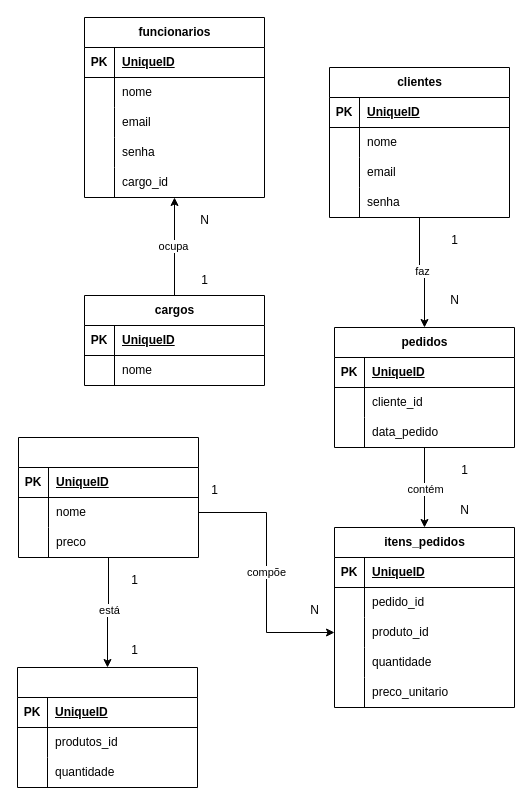
The diagram is 532 pixels wide and 805 high, and some of its shapes have lost their labels. Each missing label, with the box of its shape:
estoque: (16, 666, 198, 788)
produtos: (18, 436, 198, 558)
